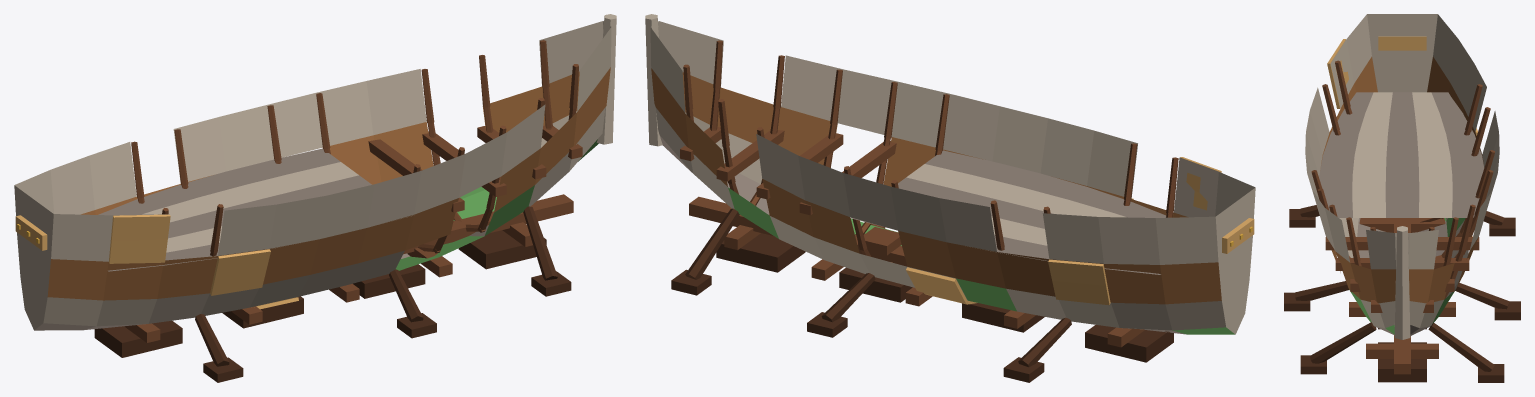
Rendered from ship_hull_repair_1.glb.
3 views of the same model, side by side, from view 1: azimuth 30°, elevation 25°; view 2: azimuth 150°, elevation 25°; view 3: azimuth 270°, elevation 25° (orthographic). The views are drawn at different scales.
Visible parts, largest first — view 1: Hull_Strake_4_Star.001, Hull_Strake_4_Port.001, Hull_Strake_3_Port.001, Hull_Strake_2_Port.001, Hull_Strake_3_Star.001, Deck_Strip_5.001, Deck_Strip_4.001, Transom_Panel.001, Deck_Strip_3.001, Cradle_Block_1.001, Cradle_Block_4.001, Keel_Keelson.001 (+21 smaller); view 2: Hull_Strake_4_Port.001, Hull_Strake_4_Star.001, Hull_Strake_3_Star.001, Hull_Strake_2_Star.001, Hull_Strake_3_Port.001, Deck_Strip_1.001, Transom_Panel.001, Deck_Strip_2.001, Deck_Strip_3.001, Cradle_Block_4.001, Cradle_Block_1.001, Keel_Keelson.001 (+23 smaller); view 3: Hull_Strake_4_Port.001, Hull_Strake_4_Star.001, Transom_Panel.001, Deck_Strip_2.001, Deck_Strip_4.001, Deck_Strip_3.001, Deck_Strip_1.001, Deck_Strip_5.001, Hull_Strake_3_Port.001, Hull_Strake_3_Star.001, Stem_Post.001, Hull_Strake_2_Star.001 (+33 smaller).
Part boxes in pixels (bbox=[...]): Hull_Strake_4_Star.001: bbox=[14, 21, 603, 214]; Hull_Strake_4_Port.001: bbox=[51, 27, 611, 261]; Hull_Strake_3_Port.001: bbox=[47, 67, 610, 300]; Hull_Strake_2_Port.001: bbox=[43, 107, 605, 326]; Hull_Strake_3_Star.001: bbox=[81, 71, 579, 214]; Deck_Strip_5.001: bbox=[98, 148, 340, 215]; Deck_Strip_4.001: bbox=[142, 162, 358, 222]; Transom_Panel.001: bbox=[14, 185, 53, 330]; Deck_Strip_3.001: bbox=[168, 175, 371, 238]; Cradle_Block_1.001: bbox=[94, 320, 182, 357]; Cradle_Block_4.001: bbox=[458, 230, 546, 269]; Keel_Keelson.001: bbox=[403, 194, 573, 254]; Hull_Strake_4_Port.001: bbox=[659, 21, 1255, 217]; Hull_Strake_4_Star.001: bbox=[650, 27, 1218, 264]; Hull_Strake_3_Star.001: bbox=[651, 68, 1221, 304]; Hull_Strake_2_Star.001: bbox=[655, 107, 1225, 330]; Hull_Strake_3_Port.001: bbox=[682, 72, 1188, 217]; Deck_Strip_1.001: bbox=[925, 150, 1166, 217]; Transom_Panel.001: bbox=[1215, 187, 1255, 334]; Deck_Strip_2.001: bbox=[906, 164, 1126, 217]; Deck_Strip_3.001: bbox=[898, 177, 1053, 228]; Cradle_Block_4.001: bbox=[716, 233, 805, 272]; Cradle_Block_1.001: bbox=[1085, 325, 1173, 362]; Keel_Keelson.001: bbox=[689, 196, 1169, 332]; Hull_Strake_4_Port.001: bbox=[1305, 14, 1395, 269]; Hull_Strake_4_Star.001: bbox=[1409, 14, 1499, 269]; Transom_Panel.001: bbox=[1367, 14, 1437, 92]; Deck_Strip_2.001: bbox=[1352, 92, 1392, 217]; Deck_Strip_4.001: bbox=[1412, 92, 1452, 217]; Deck_Strip_3.001: bbox=[1385, 92, 1419, 217]; Deck_Strip_1.001: bbox=[1319, 92, 1373, 217]; Deck_Strip_5.001: bbox=[1431, 92, 1485, 217]; Hull_Strake_3_Port.001: bbox=[1321, 56, 1395, 303]; Hull_Strake_3_Star.001: bbox=[1409, 56, 1483, 303]; Stem_Post.001: bbox=[1394, 226, 1410, 339]; Hull_Strake_2_Star.001: bbox=[1409, 218, 1468, 327].
Bounding box in the file's own units: 10.68 × 3.63 × 4.14.
